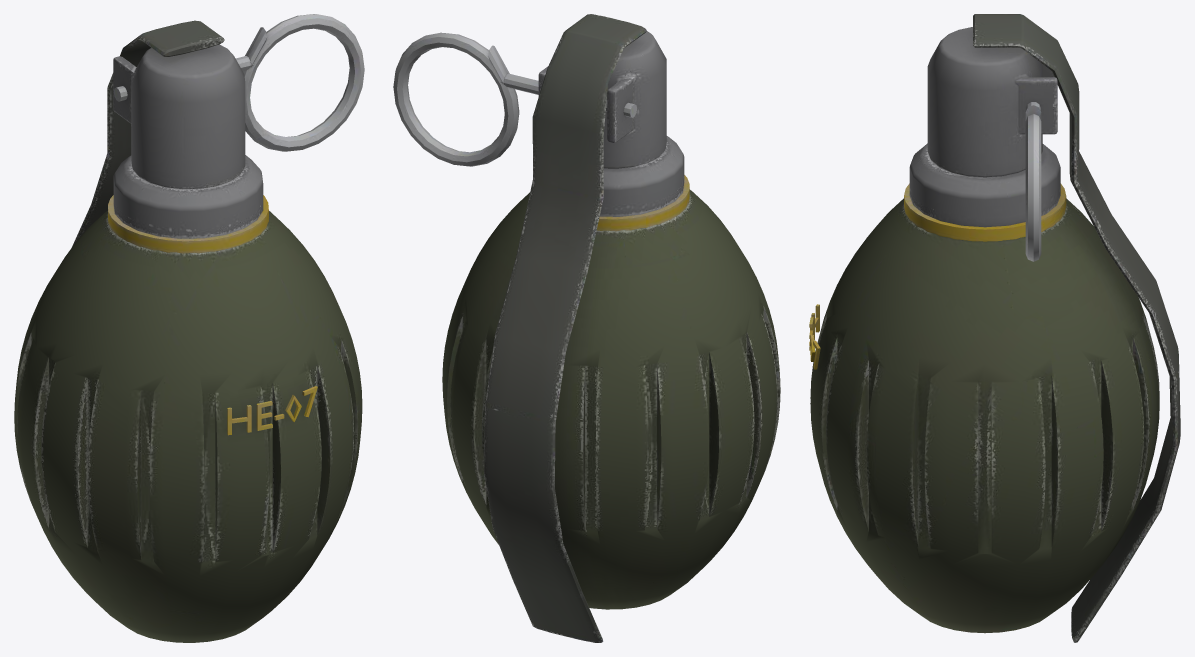
File: pili.glb
The picture shows the model from 3 angles, left to right: view 1: azimuth 30°, elevation 25°; view 2: azimuth 150°, elevation 25°; view 3: azimuth 270°, elevation 25°; orthographic projection. The views are drawn at different scales.
Visible parts, largest first — view 1: body, pin, lever; view 2: body, lever, pin; view 3: body, lever, pin.
Part boxes in pixels (<box>): body: <box>14,44,362,642</box>; pin: <box>113,14,364,151</box>; lever: <box>72,20,224,246</box>; body: <box>442,31,780,609</box>; lever: <box>484,14,646,642</box>; pin: <box>393,32,636,166</box>; body: <box>809,27,1159,633</box>; lever: <box>973,14,1180,642</box>; pin: <box>1025,102,1041,261</box>.
Bounding box in the file's own units: 0.0672 × 0.1096 × 0.0614.
Materials: 1 (1 with a texture image).
